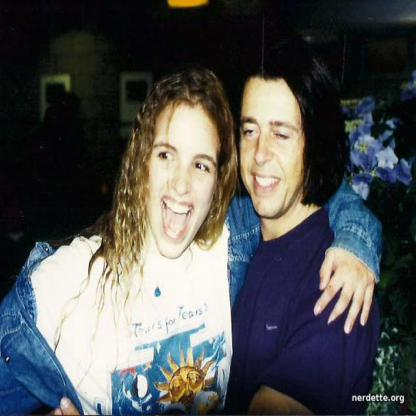face: (147, 106, 217, 250), (240, 78, 305, 219)
